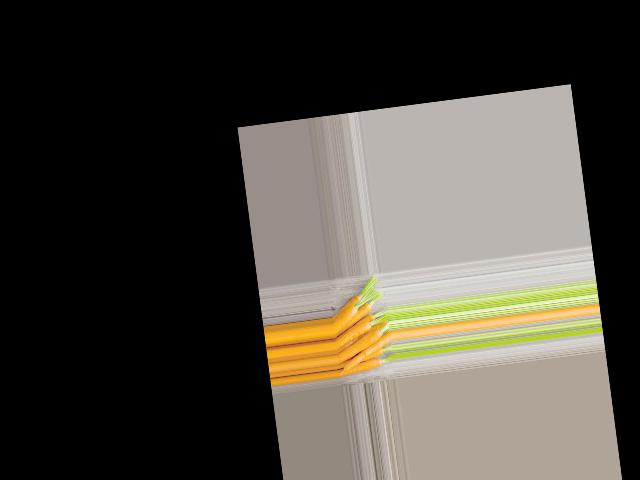carrot: (331, 301, 382, 330)
